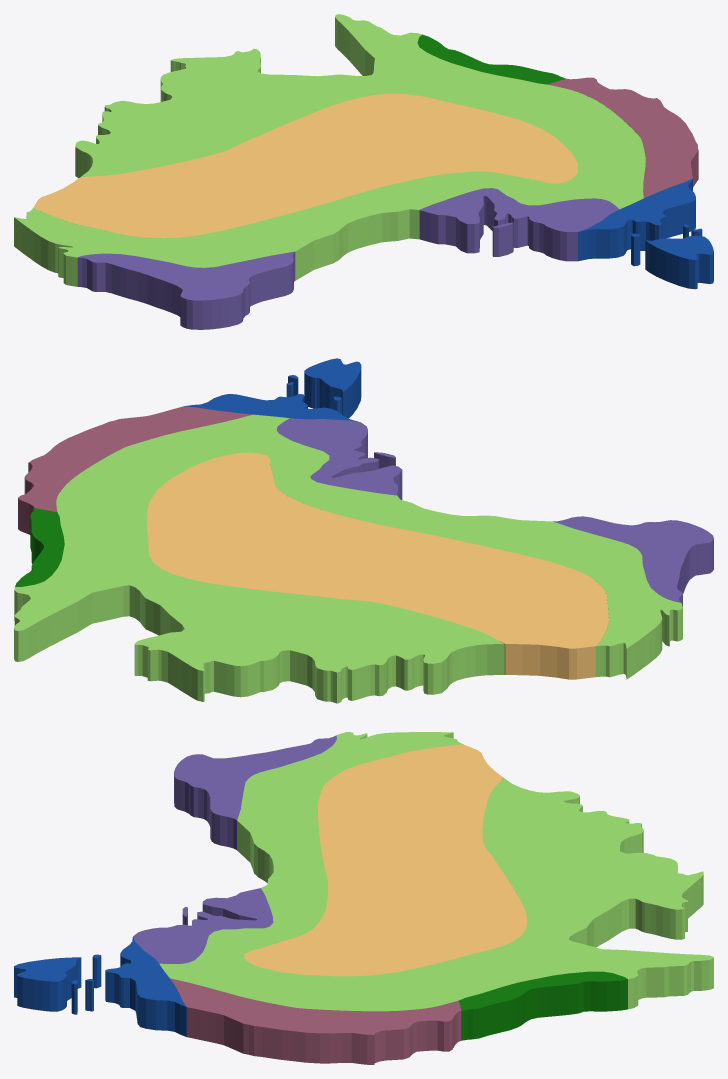
Rendered from OceaniaWeather.glb.
3 renders of one model, top to bottom at view 1: azimuth 30°, elevation 25°; view 2: azimuth 150°, elevation 25°; view 3: azimuth 270°, elevation 25°, orthographic. The views are drawn at different scales.
Visible parts, largest first — view 1: 热带草原气候, 热带沙漠气候, 地中海气候, 温带海洋性气候, 亚热带季风气候, 热带雨林气候; view 2: 热带草原气候, 热带沙漠气候, 地中海气候, 亚热带季风气候, 温带海洋性气候, 热带雨林气候; view 3: 热带草原气候, 热带沙漠气候, 亚热带季风气候, 地中海气候, 温带海洋性气候, 热带雨林气候.
Boxes of the visible parts, left/top/right/bottom form: 热带草原气候: left=14, top=14, right=645, bottom=286; 热带沙漠气候: left=33, top=93, right=577, bottom=238; 地中海气候: left=77, top=188, right=619, bottom=329; 温带海洋性气候: left=578, top=178, right=713, bottom=289; 亚热带季风气候: left=548, top=77, right=698, bottom=197; 热带雨林气候: left=417, top=34, right=565, bottom=84; 热带草原气候: left=14, top=414, right=682, bottom=703; 热带沙漠气候: left=147, top=452, right=608, bottom=679; 地中海气候: left=277, top=418, right=713, bottom=607; 亚热带季风气候: left=18, top=406, right=251, bottom=534; 温带海洋性气候: left=184, top=358, right=361, bottom=421; 热带雨林气候: left=15, top=508, right=64, bottom=586; 热带草原气候: left=159, top=732, right=713, bottom=1011; 热带沙漠气候: left=244, top=744, right=526, bottom=976; 亚热带季风气候: left=170, top=978, right=461, bottom=1064; 地中海气候: left=133, top=735, right=336, bottom=963; 温带海洋性气候: left=14, top=937, right=186, bottom=1036; 热带雨林气候: left=458, top=971, right=627, bottom=1040.
Size of the model in its own units: 4.33 by 0.2004 by 4.23.
